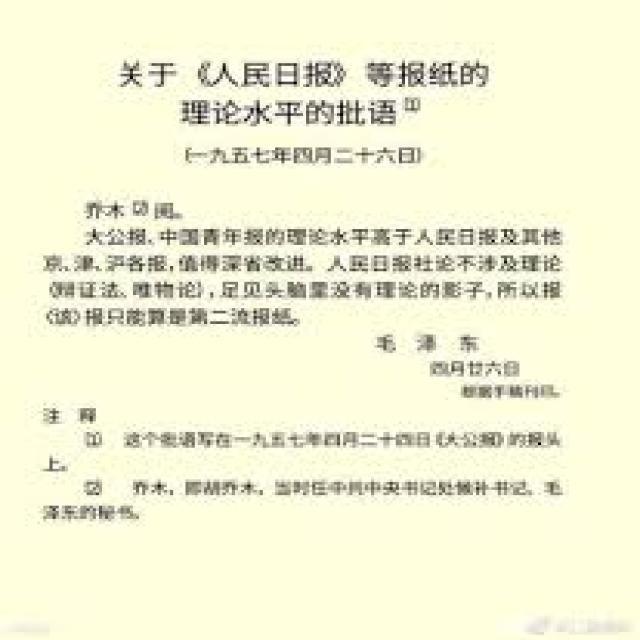paper: (0, 10, 640, 634)
